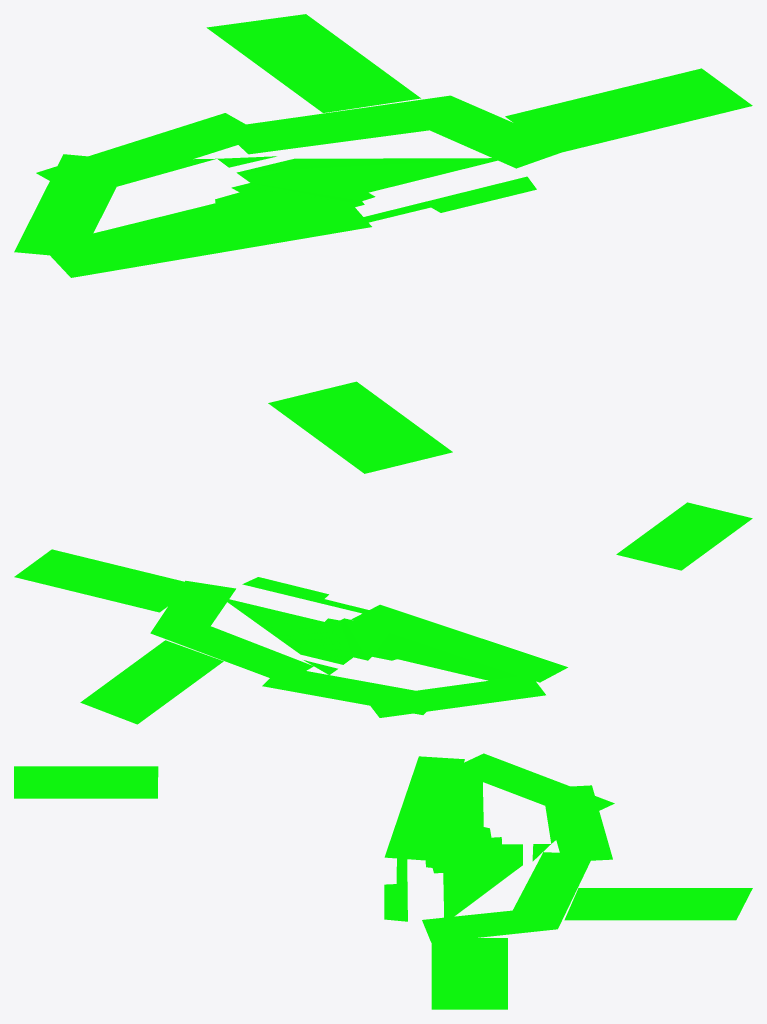
Rendered from s02b_lb3-floor.glb.
3 renders of one model, top to bottom at view 1: azimuth 30°, elevation 25°; view 2: azimuth 150°, elevation 25°; view 3: azimuth 270°, elevation 25°, orthographic. The views are drawn at different scales.
Visible parts, largest first — view 1: collision_floor-colonly; view 2: collision_floor-colonly; view 3: collision_floor-colonly.
Boxes of the visible parts, x1,y1,x2,y2 form: collision_floor-colonly: [14, 14, 752, 473]; collision_floor-colonly: [14, 502, 752, 724]; collision_floor-colonly: [14, 753, 752, 1009].
Bounding box in the file's own units: 47.61 × 0.2422 × 58.03.
